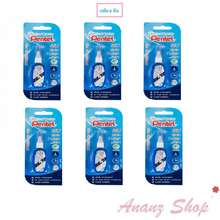Correction_fluid: (150, 45, 166, 91), (91, 43, 107, 89), (29, 43, 45, 89), (30, 130, 46, 176), (91, 129, 107, 175), (151, 128, 167, 174)
